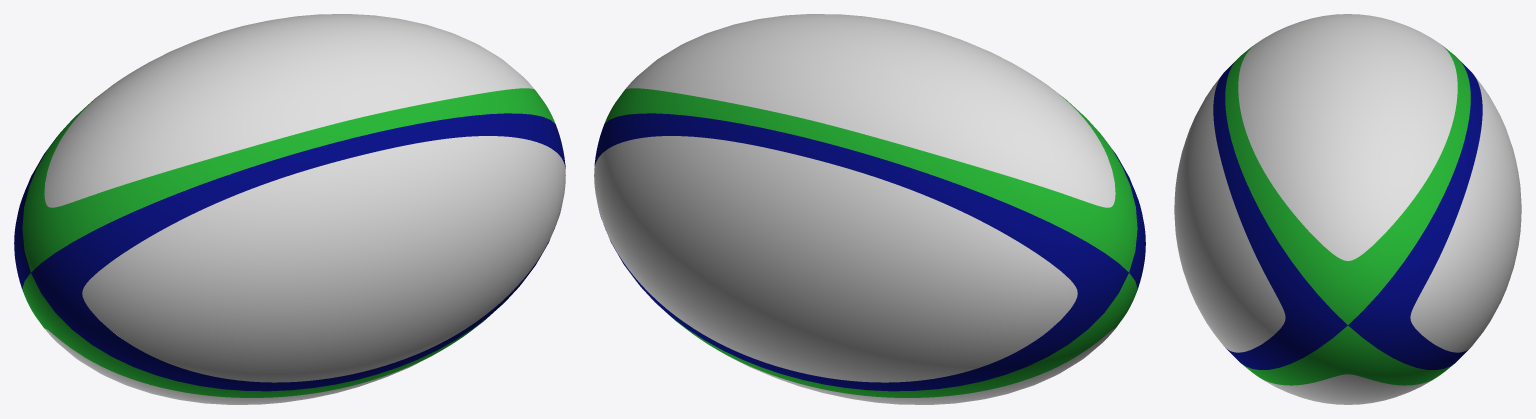
The model's file is RugbyBall.FBX.
3 views of the same model, side by side, from view 1: azimuth 30°, elevation 25°; view 2: azimuth 150°, elevation 25°; view 3: azimuth 270°, elevation 25° (orthographic). The views are drawn at different scales.
Parts seen in each view (by area): view 1: RugbyBall; view 2: RugbyBall; view 3: RugbyBall.
Part boxes in pixels (x1,y1,x2,y2): RugbyBall: (14,14,565,404); RugbyBall: (594,14,1145,404); RugbyBall: (1174,14,1521,404).
Bounding box in the file's own units: 300 × 190 × 190.
